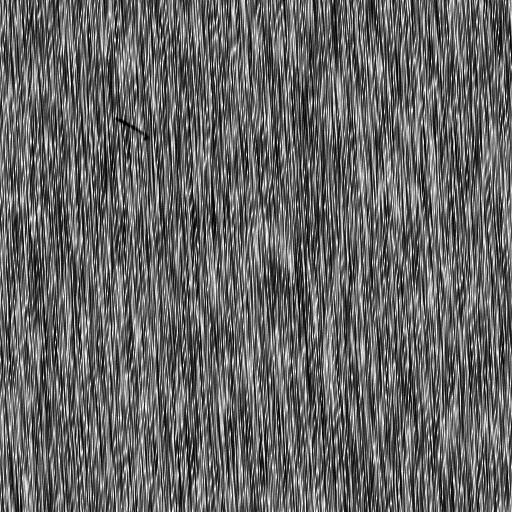DefectTypeC: (111, 117, 153, 145)
